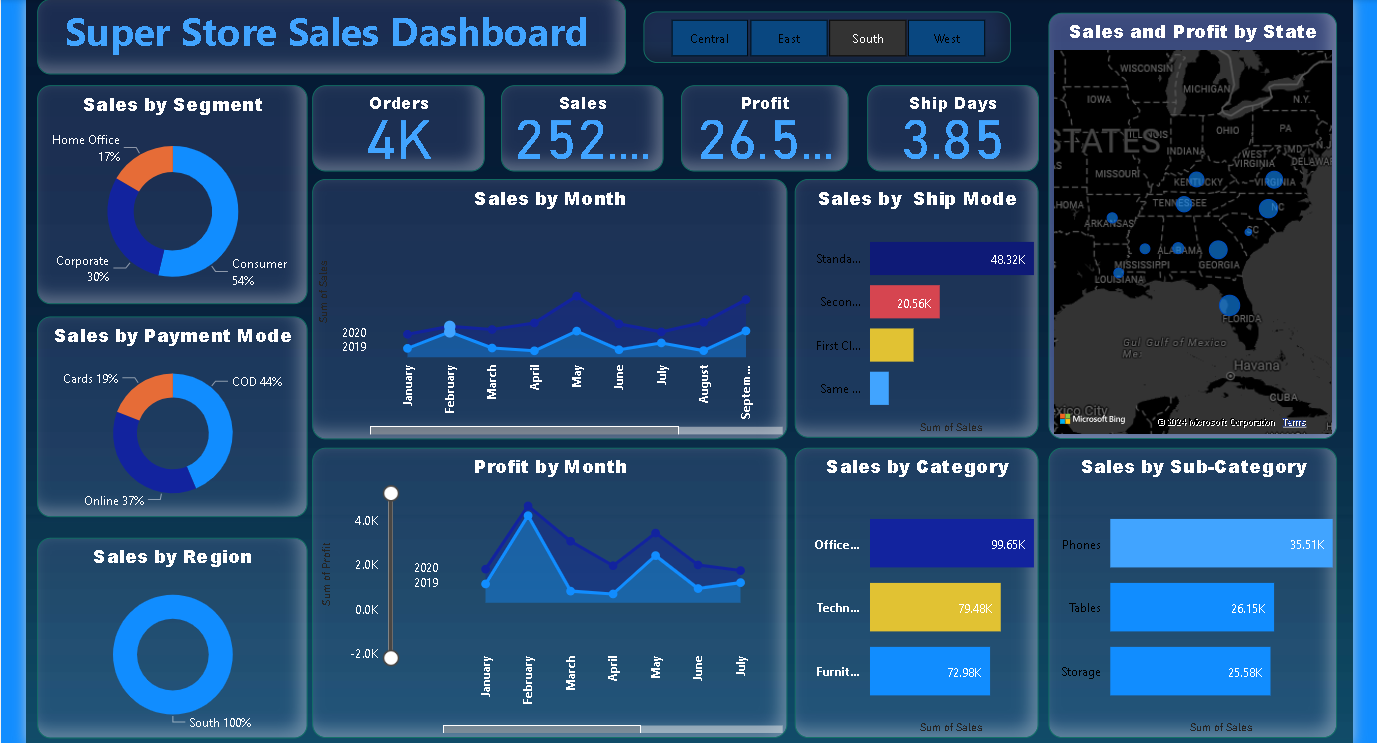

The dashboard page shown, as its layout file describes it:
{"tool":"powerbi","page":{"name":"DashBoard","canvas":[1280,720],"ordinal":0},"visuals":[{"type":"clusteredBarChart","title":"Sales by Category","fields":{"Category":["Sheet1.Category"],"Y":["Sum(Sheet1.Sales)"]},"box":[741.7,433,235.2,279.8],"z":0},{"type":"clusteredBarChart","title":"Sales by Sub-Category","fields":{"Category":["Sheet1.Sub-Category"],"Y":["Sum(Sheet1.Sales)"]},"box":[986.5,433,278.6,279.8],"z":1000},{"type":"clusteredBarChart","title":"Sales by  Ship Mode","fields":{"Category":["Sheet1.Ship Mode"],"Y":["Sum(Sheet1.Sales)"]},"box":[741.7,173.7,235.2,249.6],"z":2000},{"type":"stackedAreaChart","title":"Sales by Month","fields":{"Y":["Sum(Sheet1.Sales)"],"Series":["Sheet1.Order Date.Variation.Date Hierarchy.Year"],"Category":["Sheet1.Order Date.Variation.Date Hierarchy.Month"]},"box":[276.2,173.7,458.3,250.9],"z":3000},{"type":"stackedAreaChart","title":"Profit by Month","fields":{"Series":["Sheet1.Order Date.Variation.Date Hierarchy.Year"],"Category":["Sheet1.Order Date.Variation.Date Hierarchy.Month"],"Y":["Sum(Sheet1.Profit)"]},"box":[276.2,433,458.3,279.8],"z":4000},{"type":"map","title":"Sales and Profit by State","fields":{"Category":["Sheet1.State"],"Size":["Sum(Sheet1.Sales)"]},"box":[986.6,13.4,278,411],"z":5000},{"type":"donutChart","title":"Sales by Payment Mode","fields":{"Y":["Sum(Sheet1.Sales)"],"Category":["Sheet1.Payment Mode"]},"box":[11,305.7,260.5,193.3],"z":6000},{"type":"donutChart","title":"Sales by Segment","fields":{"Y":["Sum(Sheet1.Sales)"],"Category":["Sheet1.Segment"]},"box":[11,83.6,260.5,211.1],"z":7000},{"type":"slicer","fields":{"Values":["Sheet1.Region"]},"box":[595.8,12.1,354.6,49.4],"z":8000},{"type":"textbox","box":[11,0,567.6,72.7],"z":9000},{"type":"card","title":"Orders","fields":{"Values":["Sum(Sheet1.Quantity)"]},"box":[276.2,83.2,166.4,83.2],"z":10000},{"type":"card","title":"Sales","fields":{"Values":["Sum(Sheet1.Sales)"]},"box":[458.3,83.2,156.8,83.2],"z":11000},{"type":"card","title":"Profit","fields":{"Values":["Sum(Sheet1.Profit)"]},"box":[632,83.2,161.6,83.2],"z":12000},{"type":"card","title":"Ship Days","fields":{"Values":["Avg(Sheet1.DayAvgDilvery)"]},"box":[811.7,83.2,165.2,83.2],"z":13000},{"type":"donutChart","title":"Sales by Region","fields":{"Y":["Sum(Sheet1.Sales)"],"Category":["Sheet1.Region"]},"box":[11,519.6,260.5,193.3],"z":14000}]}

Visuals, with their boxes on the page's 1280x720 design canvas (x1, y1, x2, y2). These are canvas units, not pixel positions in the 1377x743 screenshot, which may show the page scaled, cropped or inside an application window:
"Sales by Category" clusteredBarChart: bbox=(742, 433, 977, 713)
"Sales by Sub-Category" clusteredBarChart: bbox=(986, 433, 1265, 713)
"Sales by  Ship Mode" clusteredBarChart: bbox=(742, 174, 977, 423)
"Sales by Month" stackedAreaChart: bbox=(276, 174, 734, 425)
"Profit by Month" stackedAreaChart: bbox=(276, 433, 734, 713)
"Sales and Profit by State" map: bbox=(987, 13, 1265, 424)
"Sales by Payment Mode" donutChart: bbox=(11, 306, 272, 499)
"Sales by Segment" donutChart: bbox=(11, 84, 272, 295)
slicer - Sheet1.Region: bbox=(596, 12, 950, 62)
textbox: bbox=(11, 0, 579, 73)
"Orders" card: bbox=(276, 83, 443, 166)
"Sales" card: bbox=(458, 83, 615, 166)
"Profit" card: bbox=(632, 83, 794, 166)
"Ship Days" card: bbox=(812, 83, 977, 166)
"Sales by Region" donutChart: bbox=(11, 520, 272, 713)
